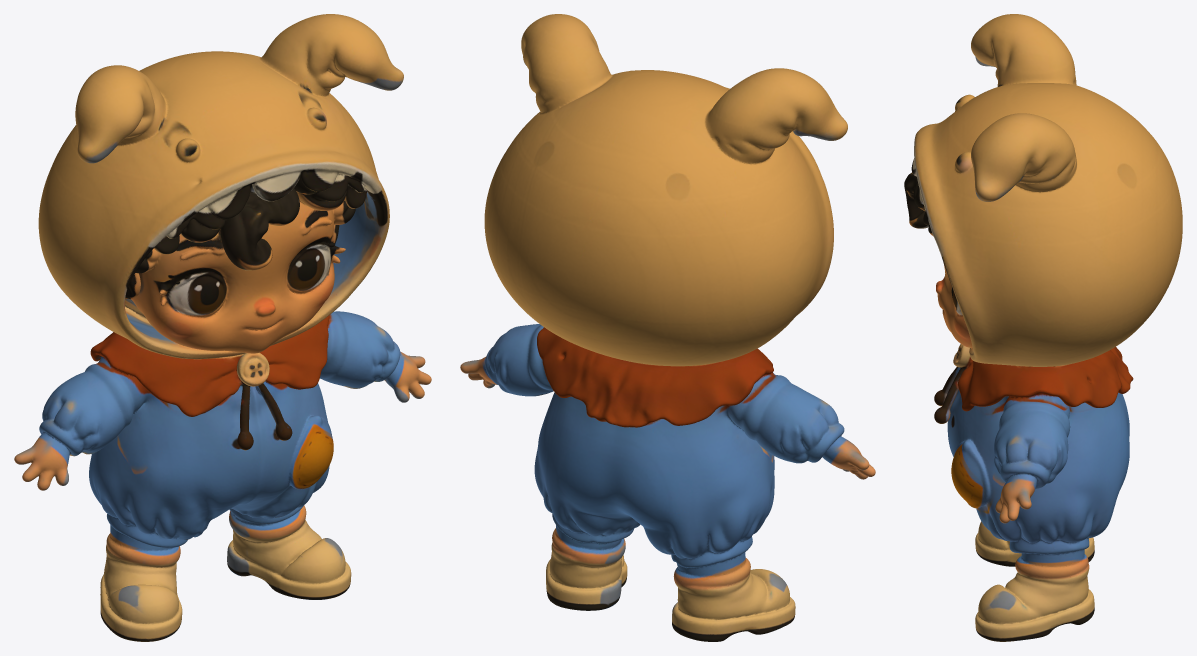
The model's file is bunny hooded kid 3d model.glb.
3 views of the same model, side by side, from view 1: azimuth 30°, elevation 25°; view 2: azimuth 150°, elevation 25°; view 3: azimuth 270°, elevation 25° (orthographic). The views are drawn at different scales.
Visible parts, largest first — view 1: tripo_node_72d91315-4d86-4b72-9d7d-524e20e3917d; view 2: tripo_node_72d91315-4d86-4b72-9d7d-524e20e3917d; view 3: tripo_node_72d91315-4d86-4b72-9d7d-524e20e3917d.
Part boxes in pixels (x1,y1,x2,y2): tripo_node_72d91315-4d86-4b72-9d7d-524e20e3917d: (14, 14, 431, 641); tripo_node_72d91315-4d86-4b72-9d7d-524e20e3917d: (460, 14, 875, 641); tripo_node_72d91315-4d86-4b72-9d7d-524e20e3917d: (904, 14, 1182, 641).
Bounding box in the file's own units: 0.7651 × 1 × 0.4816.
Materials: 1 (1 with a texture image).
